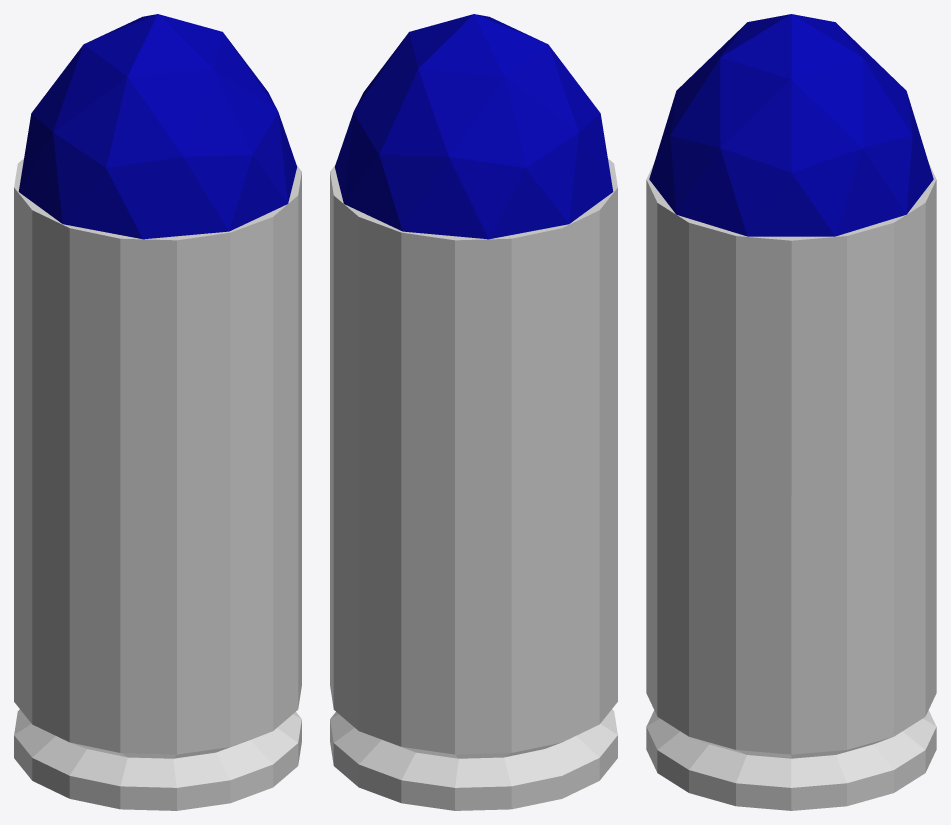
File: lowpolybullet.fbx
3 renders of one model, left to right at view 1: azimuth 30°, elevation 25°; view 2: azimuth 150°, elevation 25°; view 3: azimuth 270°, elevation 25°, orthographic.
Visible parts, largest first — view 1: Cylinder; view 2: Cylinder; view 3: Cylinder.
Boxes of the visible parts, x1,y1,x2,y2 form: Cylinder: [14, 14, 301, 810]; Cylinder: [330, 14, 617, 810]; Cylinder: [646, 14, 936, 810].
Size of the model in its own units: 2.2 by 6.15 by 2.2.
